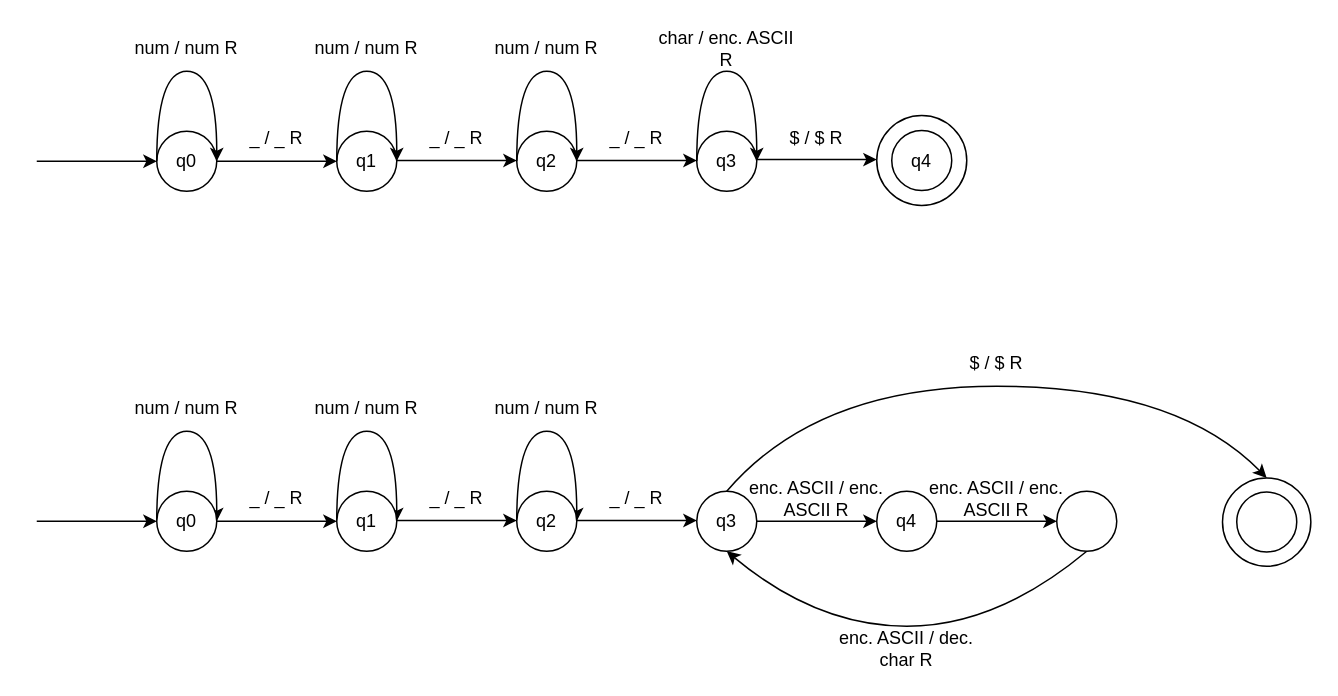
Image size: 1338x696. Some labels were removed from this diagram. The box of each missing label's shape, as (x1, y1, x2, y2) in pixels:
q5: (1055, 490, 1117, 551)
q6: (1235, 490, 1297, 552)
